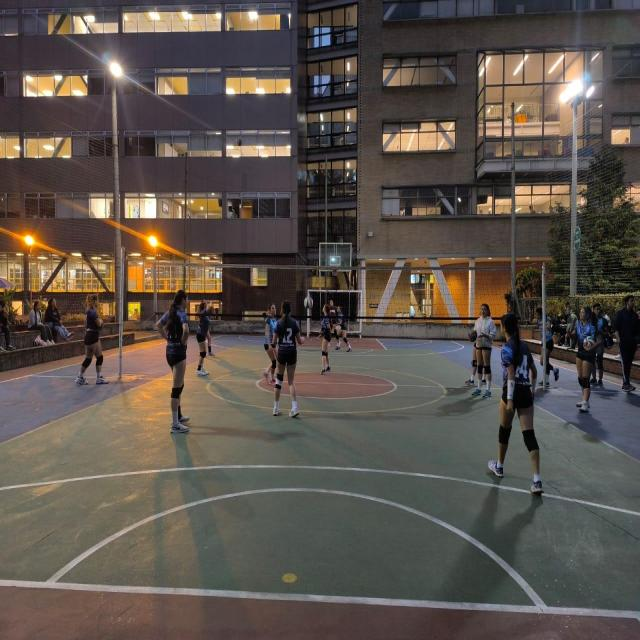volleyball: (584, 336, 596, 348), (468, 329, 477, 342), (305, 297, 313, 309)
